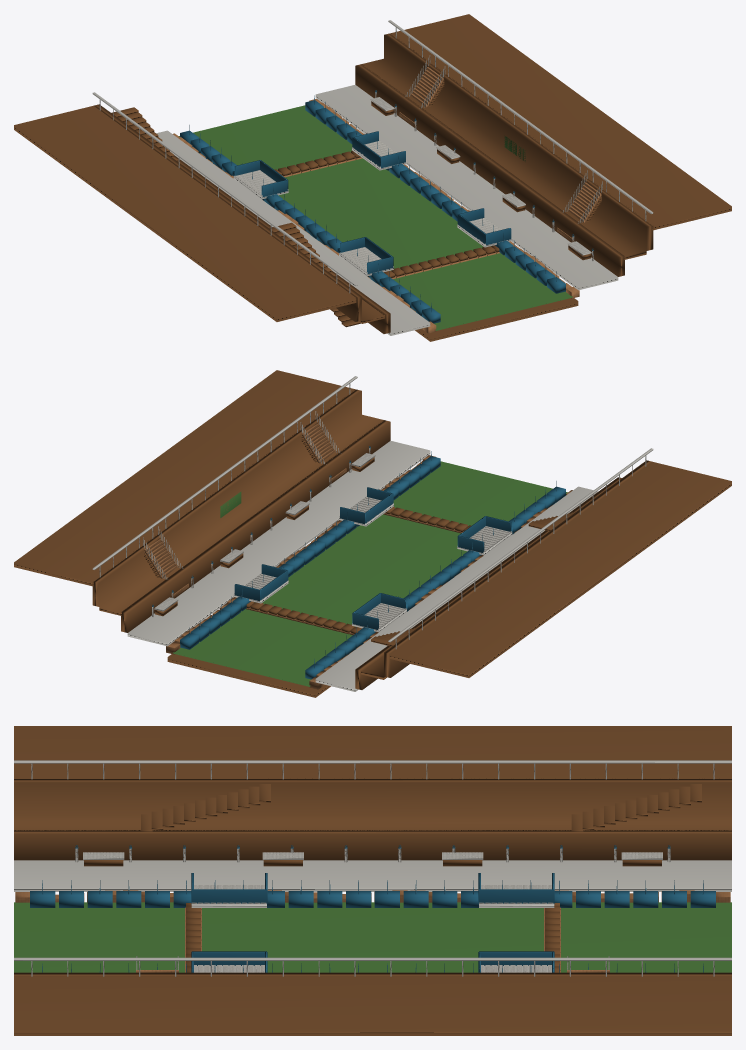
3 renders of one model, top to bottom at view 1: azimuth 30°, elevation 25°; view 2: azimuth 150°, elevation 25°; view 3: azimuth 270°, elevation 25°, orthographic. The views are drawn at different scales.
Visible parts, largest first — view 1: cheonggye_street_level, cheonggye_retaining_walls, cheonggye_water_surface, cheonggye_promenade_pavements, cheonggye_reeds_and_wetland, cheonggye_riverbed_and_stones; view 2: cheonggye_street_level, cheonggye_water_surface, cheonggye_retaining_walls, cheonggye_promenade_pavements, cheonggye_reeds_and_wetland, cheonggye_riverbed_and_stones; view 3: cheonggye_street_level, cheonggye_retaining_walls, cheonggye_water_surface, cheonggye_promenade_pavements, cheonggye_reeds_and_wetland, cheonggye_riverbed_and_stones.
Part boxes in pixels (left/top/right/bottom): cheonggye_street_level: left=14, top=14, right=731, bottom=321; cheonggye_retaining_walls: left=94, top=33, right=653, bottom=333; cheonggye_water_surface: left=179, top=105, right=572, bottom=330; cheonggye_promenade_pavements: left=156, top=84, right=618, bottom=335; cheonggye_reeds_and_wetland: left=180, top=90, right=593, bottom=323; cheonggye_riverbed_and_stones: left=173, top=99, right=579, bottom=341; cheonggye_street_level: left=14, top=370, right=731, bottom=677; cheonggye_water_surface: left=173, top=461, right=567, bottom=686; cheonggye_retaining_walls: left=92, top=389, right=651, bottom=689; cheonggye_promenade_pavements: left=127, top=440, right=598, bottom=691; cheonggye_reeds_and_wetland: left=152, top=446, right=565, bottom=679; cheonggye_riverbed_and_stones: left=166, top=455, right=572, bottom=697; cheonggye_street_level: left=14, top=726, right=731, bottom=1035; cheonggye_retaining_walls: left=14, top=778, right=731, bottom=976; cheonggye_water_surface: left=14, top=902, right=731, bottom=972; cheonggye_promenade_pavements: left=14, top=852, right=731, bottom=972; cheonggye_reeds_and_wetland: left=30, top=845, right=715, bottom=972; cheonggye_riverbed_and_stones: left=15, top=890, right=730, bottom=972.
Bounding box in the file's own units: 40 × 6.3 × 40.
Materials: 4 (4 with a texture image).
